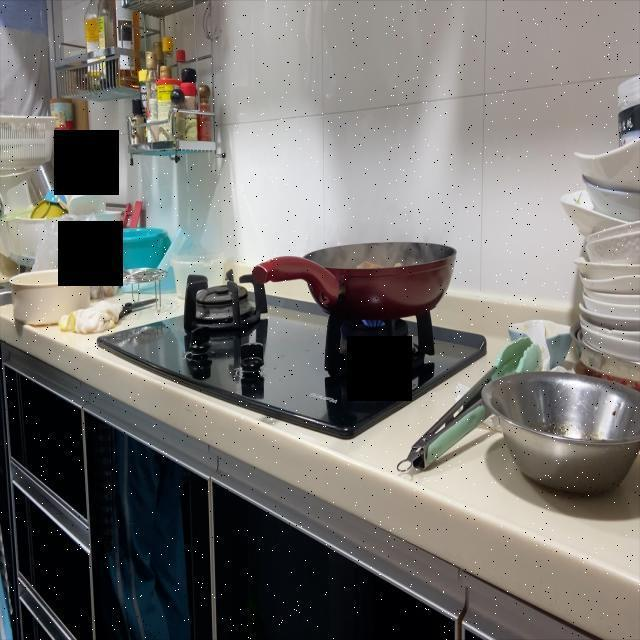Flame: (355, 315, 401, 332)
Pan: (270, 244, 460, 308)
